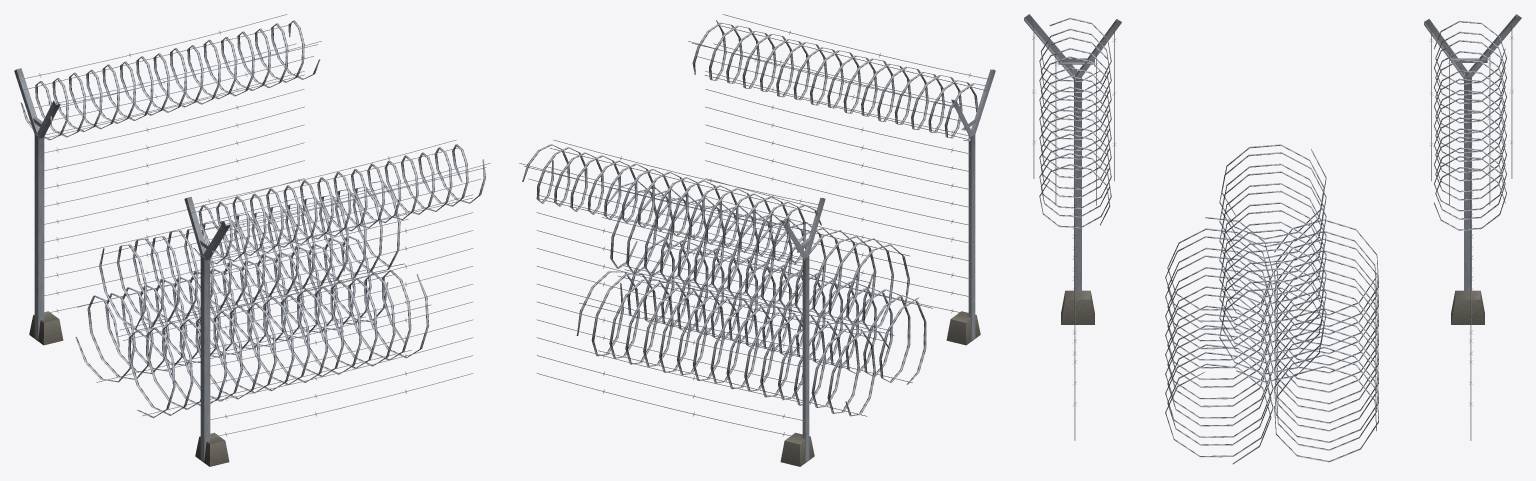
File: india_pakistan_border_fence_3m.glb
3 renders of one model, left to right at view 1: azimuth 30°, elevation 25°; view 2: azimuth 150°, elevation 25°; view 3: azimuth 270°, elevation 25°, orthographic. The views are drawn at different scales.
Parts seen in each view (by area): view 1: Concertina_Razor_Coils, Barbed_Wire_Strands, Galvanised_L_Posts, Concrete_Footings; view 2: Concertina_Razor_Coils, Barbed_Wire_Strands, Galvanised_L_Posts, Concrete_Footings; view 3: Concertina_Razor_Coils, Galvanised_L_Posts, Barbed_Wire_Strands, Concrete_Footings.
Part boxes in pixels (x1,y1,x2,y2): Concertina_Razor_Coils: [20, 20, 486, 418]; Barbed_Wire_Strands: [18, 14, 490, 437]; Galvanised_L_Posts: [14, 68, 230, 461]; Concrete_Footings: [29, 311, 229, 466]; Concertina_Razor_Coils: [522, 20, 987, 416]; Barbed_Wire_Strands: [519, 14, 991, 438]; Galvanised_L_Posts: [781, 69, 995, 461]; Concrete_Footings: [780, 311, 980, 466]; Concertina_Razor_Coils: [1039, 17, 1506, 464]; Galvanised_L_Posts: [1024, 14, 1521, 292]; Barbed_Wire_Strands: [1032, 25, 1513, 440]; Concrete_Footings: [1061, 290, 1484, 324].
Bounding box in the file's own units: 3 × 2.72 × 4.08.
1 material, 1 textured.
